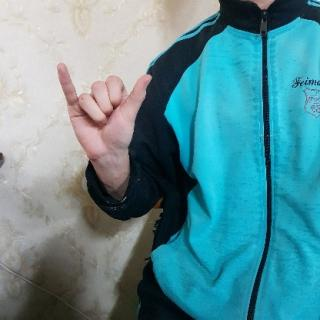YA: (54, 56, 153, 161)
